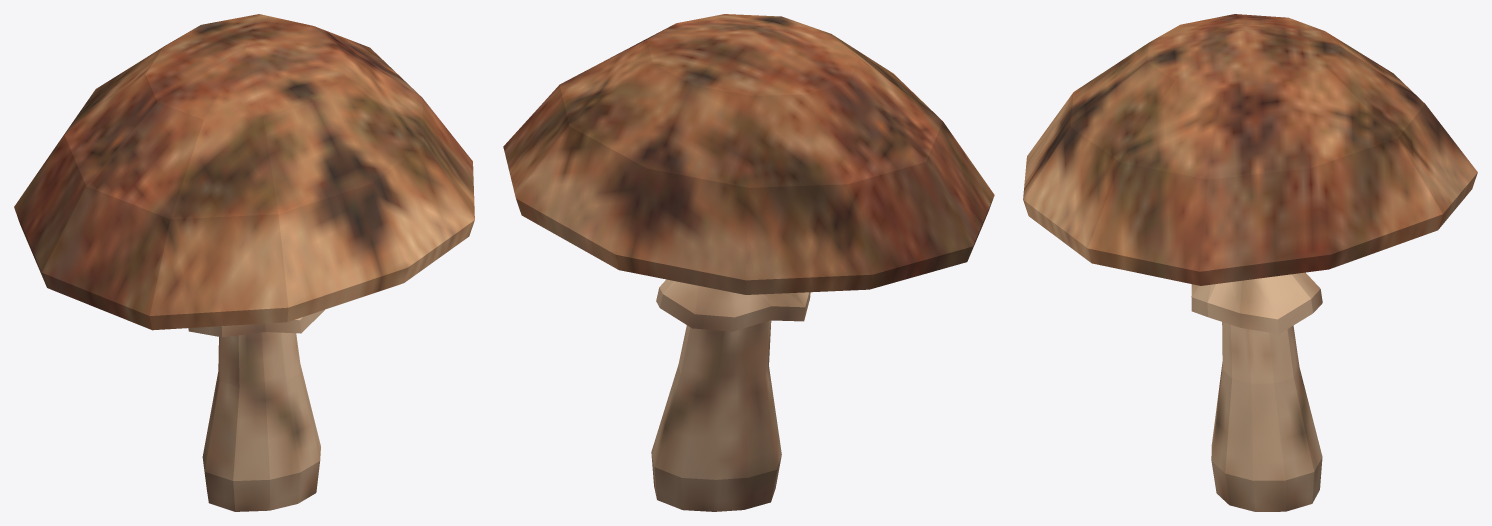
Rendered from Cogumelo-02-Arredondado.glb.
3 views of the same model, side by side, from view 1: azimuth 30°, elevation 25°; view 2: azimuth 150°, elevation 25°; view 3: azimuth 270°, elevation 25° (orthographic). The views are drawn at different scales.
Visible parts, largest first — view 1: Arredondado; view 2: Arredondado; view 3: Arredondado.
Part boxes in pixels (<box>): Arredondado: <box>14,14,474,511</box>; Arredondado: <box>503,14,994,511</box>; Arredondado: <box>1023,14,1477,511</box>.
Bounding box in the file's own units: 0.141 × 0.147 × 0.1364.
1 material, 1 textured.
